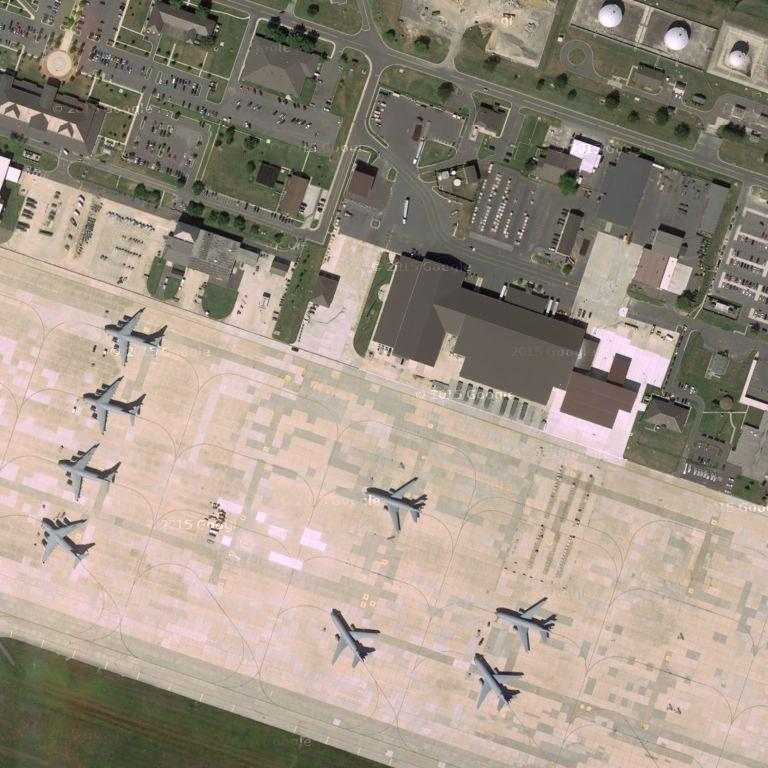C-17: (56, 440, 124, 501), (79, 376, 148, 435), (98, 308, 167, 365), (34, 512, 96, 570)
KC-10: (361, 469, 431, 533), (491, 594, 560, 653), (324, 602, 384, 669), (466, 649, 524, 714)
